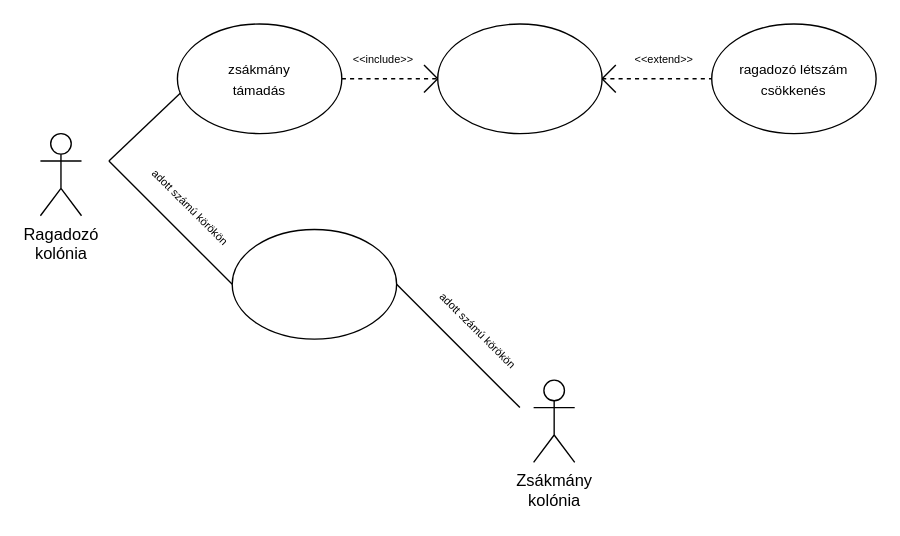
This 900x536 diagram has some shape labels left out. The centre of each missing label's shape, as x and y in pixels:
"létszám növekedés" belongs at (314,283).
"zsákmány létszám csökkenés" belongs at (519,78).
